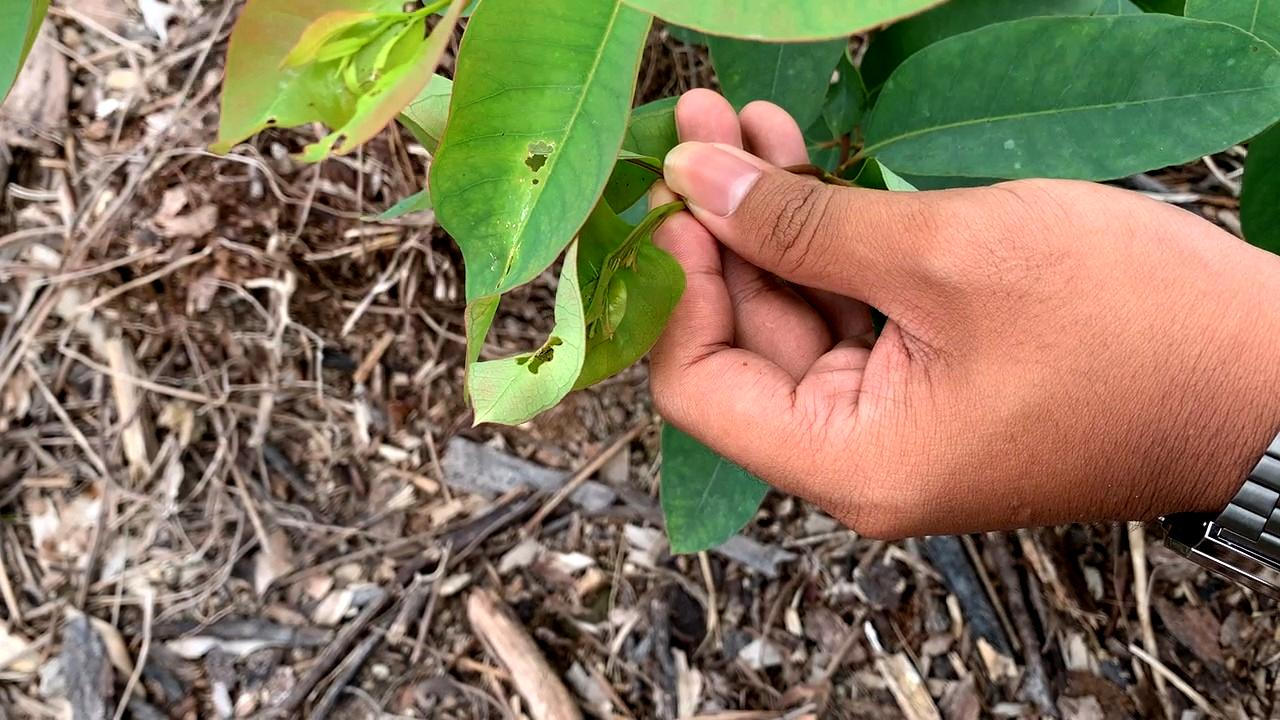Leaf Roller - Leaf: (459, 225, 665, 452)
